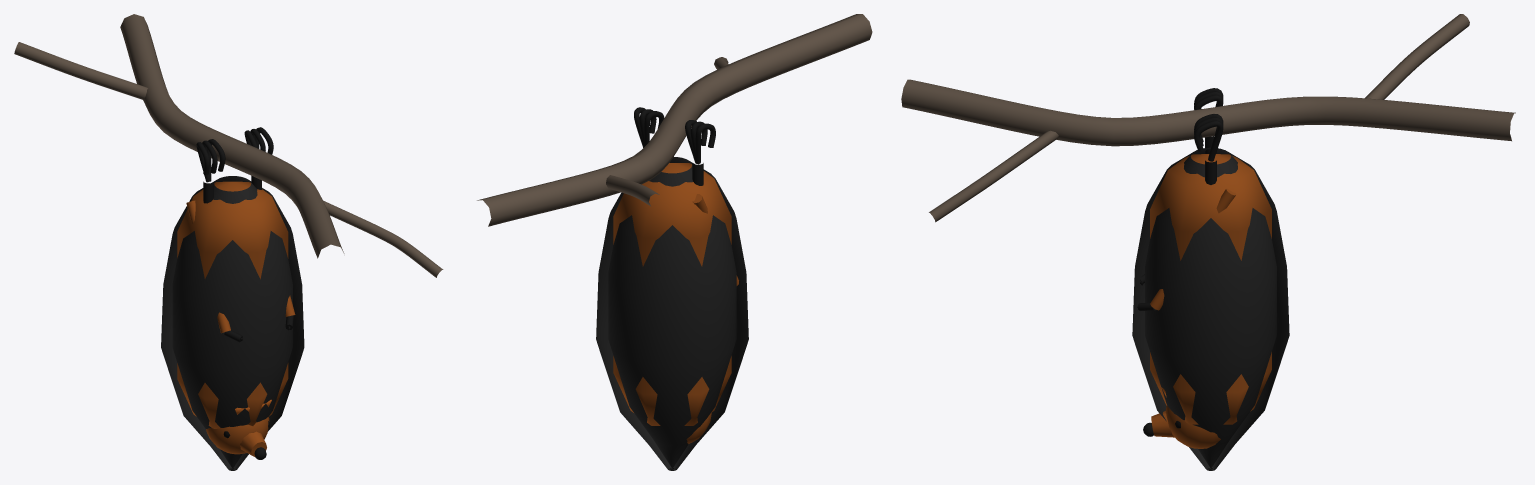
File: flying-fox-bat.glb
3 renders of one model, left to right at view 1: azimuth 30°, elevation 25°; view 2: azimuth 150°, elevation 25°; view 3: azimuth 270°, elevation 25°, orthographic. The views are drawn at different scales.
Visible parts, largest first — view 1: Mesh_WingCloak, Mesh_MainBranch, Mesh_Body, Mesh_Twig1, Mesh_Twig2, Mesh_Skull; view 2: Mesh_WingCloak, Mesh_MainBranch, Mesh_Body, Mesh_Twig1; view 3: Mesh_WingCloak, Mesh_MainBranch, Mesh_Body, Mesh_Twig1, Mesh_Twig2, Mesh_Skull.
Part boxes in pixels (x1=…): Mesh_WingCloak: x1=161, y1=176, x2=304, y2=470; Mesh_MainBranch: x1=120, y1=14, x2=344, y2=258; Mesh_Body: x1=177, y1=181, x2=288, y2=428; Mesh_Twig1: x1=14, y1=42, x2=147, y2=99; Mesh_Twig2: x1=323, y1=200, x2=443, y2=277; Mesh_Skull: x1=206, y1=417, x2=269, y2=454; Mesh_WingCloak: x1=596, y1=157, x2=748, y2=470; Mesh_MainBranch: x1=477, y1=14, x2=872, y2=226; Mesh_Body: x1=613, y1=163, x2=731, y2=425; Mesh_Twig1: x1=606, y1=175, x2=659, y2=206; Mesh_WingCloak: x1=1132, y1=147, x2=1289, y2=470; Mesh_MainBranch: x1=901, y1=79, x2=1515, y2=146; Mesh_Body: x1=1150, y1=154, x2=1271, y2=424; Mesh_Twig1: x1=1365, y1=14, x2=1469, y2=99; Mesh_Twig2: x1=929, y1=130, x2=1058, y2=222; Mesh_Skull: x1=1165, y1=405, x2=1220, y2=448.
Size of the model in its own units: 0.471 by 0.8744 by 1.22.
